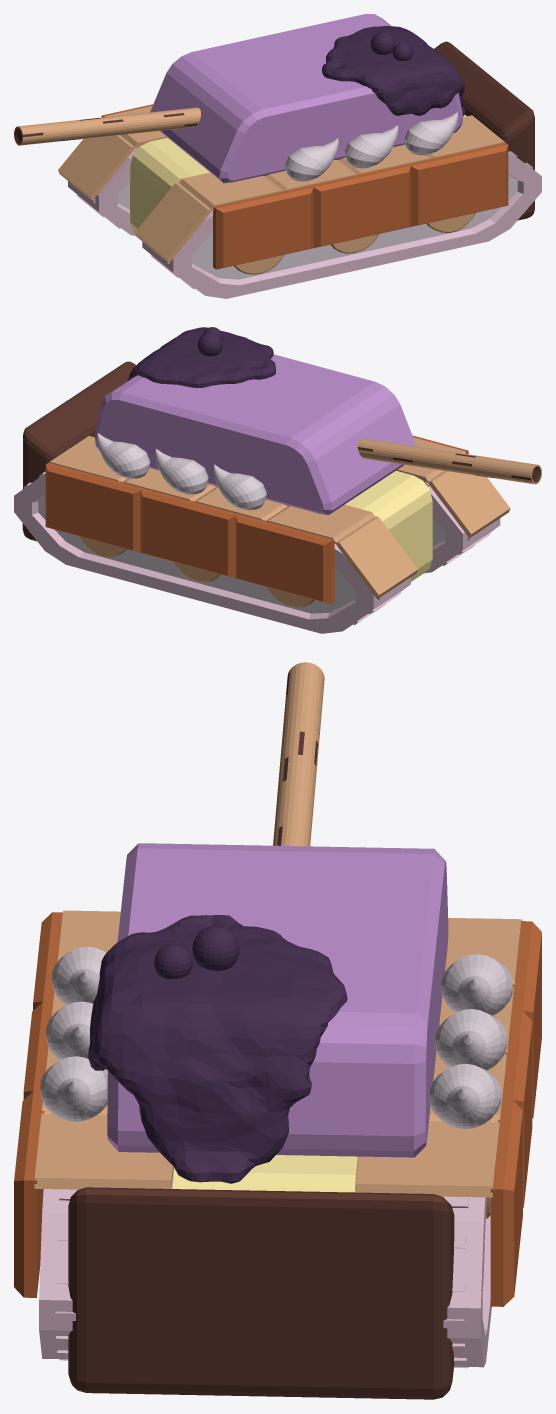
File: tanks2.fbx
3 renders of one model, top to bottom at view 1: azimuth 30°, elevation 25°; view 2: azimuth 150°, elevation 25°; view 3: azimuth 270°, elevation 25°, orthographic. The views are drawn at different scales.
Visible parts, largest first — view 1: Tank_mure; view 2: Tank_mure; view 3: Tank_mure.
Boxes of the visible parts, x1,y1,x2,y2 form: Tank_mure: (14, 14, 541, 298); Tank_mure: (14, 327, 541, 633); Tank_mure: (14, 662, 541, 1399).
Bounding box in the file's own units: 2002 × 788 × 1017.
